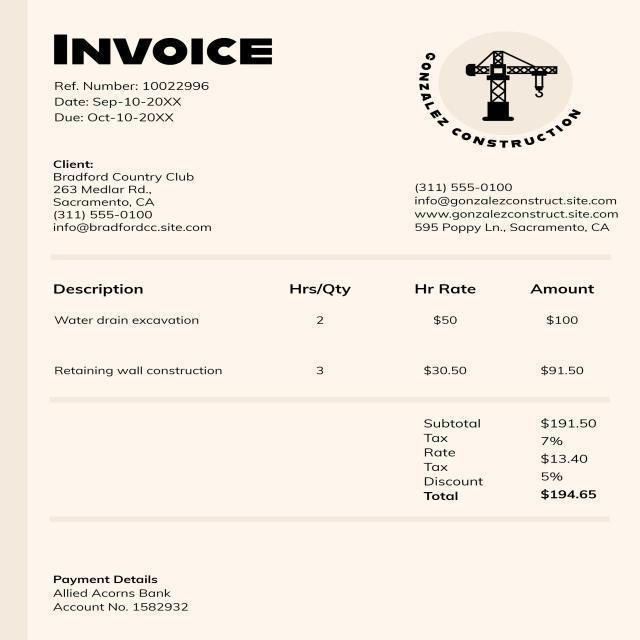paragraph: (392, 32, 599, 151), (412, 399, 617, 518), (398, 166, 632, 245), (38, 149, 227, 240), (49, 26, 276, 69), (40, 565, 209, 622), (48, 73, 221, 128)
table: (33, 267, 606, 390)
